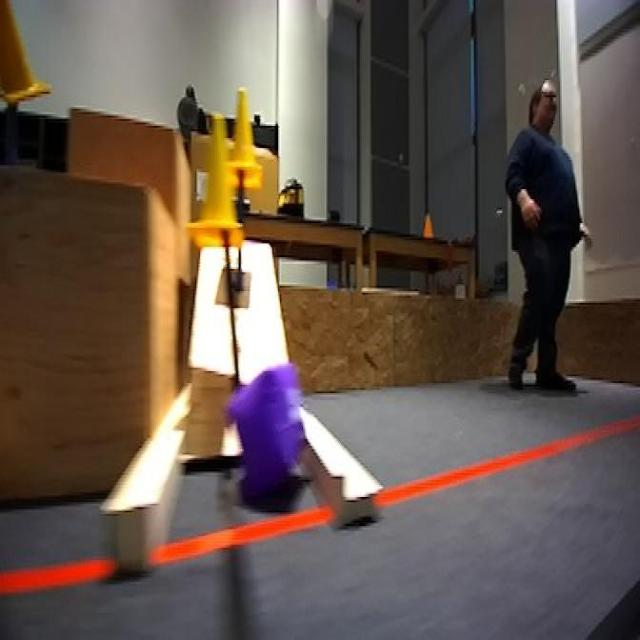frc_cone: (186, 112, 246, 250), (0, 0, 52, 110), (220, 88, 264, 190)
frc_cube: (228, 363, 312, 502)
